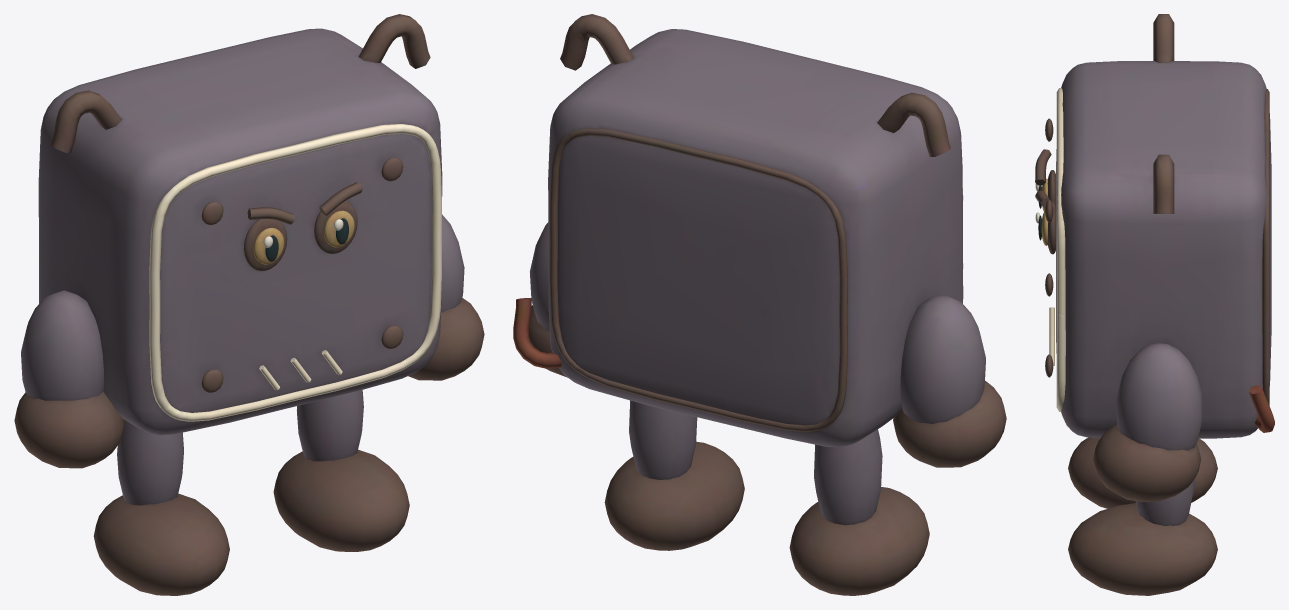
Rendered from practice-cushion.glb.
3 views of the same model, side by side, from view 1: azimuth 30°, elevation 25°; view 2: azimuth 150°, elevation 25°; view 3: azimuth 270°, elevation 25° (orthographic). The views are drawn at different scales.
Parts seen in each view (by area): view 1: stuffed-practice-pillow, weighted-boot, weighted-boot.001, sewn-arm, sewn-arm.001, enemy-eye-rim, corner-tassel.001, corner-tassel; view 2: stuffed-practice-pillow, weighted-boot, weighted-boot.001, sewn-arm, corner-tassel.001, corner-tassel, sewn-arm.001, loose-pillow-seam; view 3: stuffed-practice-pillow, sewn-arm.001, weighted-boot.001, weighted-boot, enemy-eye-rim, corner-tassel.001, corner-tassel, loose-pillow-seam.
Part boxes in pixels (left/top/right/bottom): stuffed-practice-pillow: left=38, top=28, right=442, bottom=435; weighted-boot: left=93, top=420, right=229, bottom=595; weighted-boot.001: left=273, top=390, right=409, bottom=551; sewn-arm: left=14, top=290, right=124, bottom=468; sewn-arm.001: left=408, top=214, right=484, bottom=380; enemy-eye-rim: left=243, top=182, right=362, bottom=271; corner-tassel.001: left=358, top=14, right=430, bottom=68; corner-tassel: left=50, top=90, right=122, bottom=153; stuffed-practice-pillow: left=548, top=29, right=963, bottom=447; weighted-boot: left=789, top=429, right=929, bottom=595; weighted-boot.001: left=604, top=400, right=744, bottom=550; sewn-arm: left=893, top=295, right=1006, bottom=467; corner-tassel.001: left=560, top=14, right=633, bottom=70; corner-tassel: left=877, top=92, right=950, bottom=156; sewn-arm.001: left=529, top=222, right=567, bottom=377; loose-pillow-seam: left=513, top=298, right=562, bottom=368; stuffed-practice-pillow: left=1045, top=61, right=1271, bottom=438; sewn-arm.001: left=1093, top=343, right=1203, bottom=501; weighted-boot.001: left=1068, top=479, right=1217, bottom=595; weighted-boot: left=1068, top=437, right=1217, bottom=508; enemy-eye-rim: left=1035, top=149, right=1055, bottom=254; corner-tassel.001: left=1153, top=154, right=1174, bottom=213; corner-tassel: left=1153, top=14, right=1174, bottom=62; loose-pillow-seam: left=1248, top=385, right=1274, bottom=432.
Size of the model in its own units: 1.21 by 1.28 by 0.6014.
Materials: 1 (1 with a texture image).
